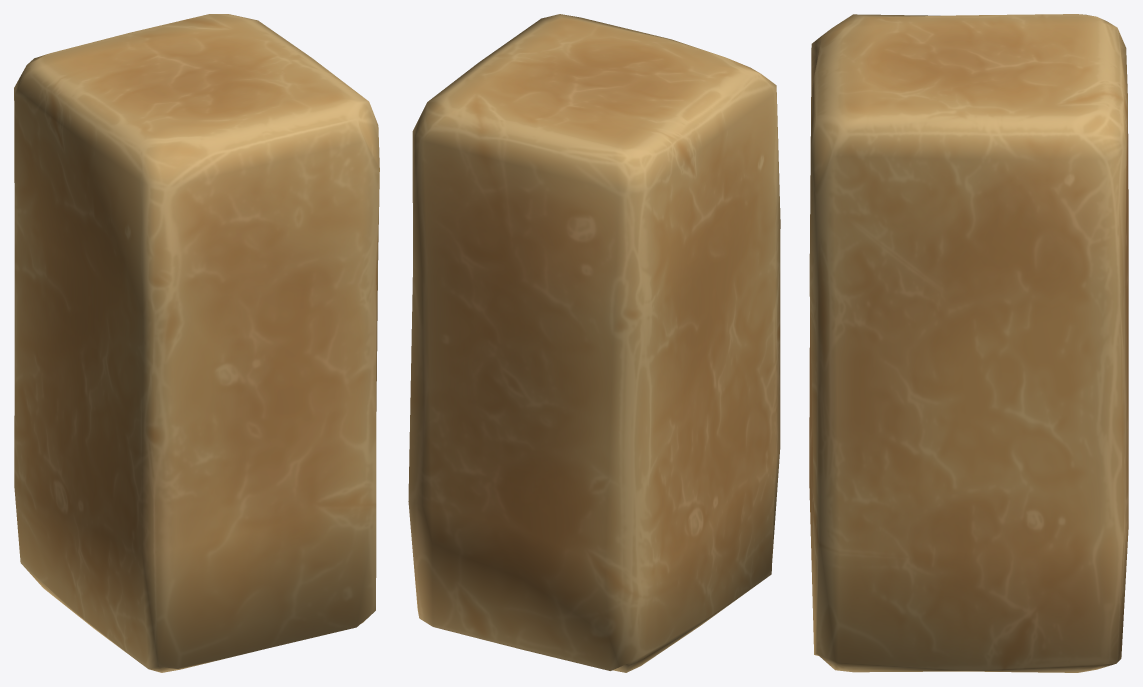
File: StoneBrick.fbx
The picture shows the model from 3 angles, left to right: view 1: azimuth 30°, elevation 25°; view 2: azimuth 150°, elevation 25°; view 3: azimuth 270°, elevation 25°; orthographic projection. The views are drawn at different scales.
Parts seen in each view (by area): view 1: Stone_Brick_LP; view 2: Stone_Brick_LP; view 3: Stone_Brick_LP.
Boxes of the visible parts, x1=… form: Stone_Brick_LP: x1=14, y1=14, x2=379, y2=672; Stone_Brick_LP: x1=408, y1=14, x2=780, y2=672; Stone_Brick_LP: x1=809, y1=14, x2=1128, y2=672.
Bounding box in the file's own units: 143 × 157 × 302.
